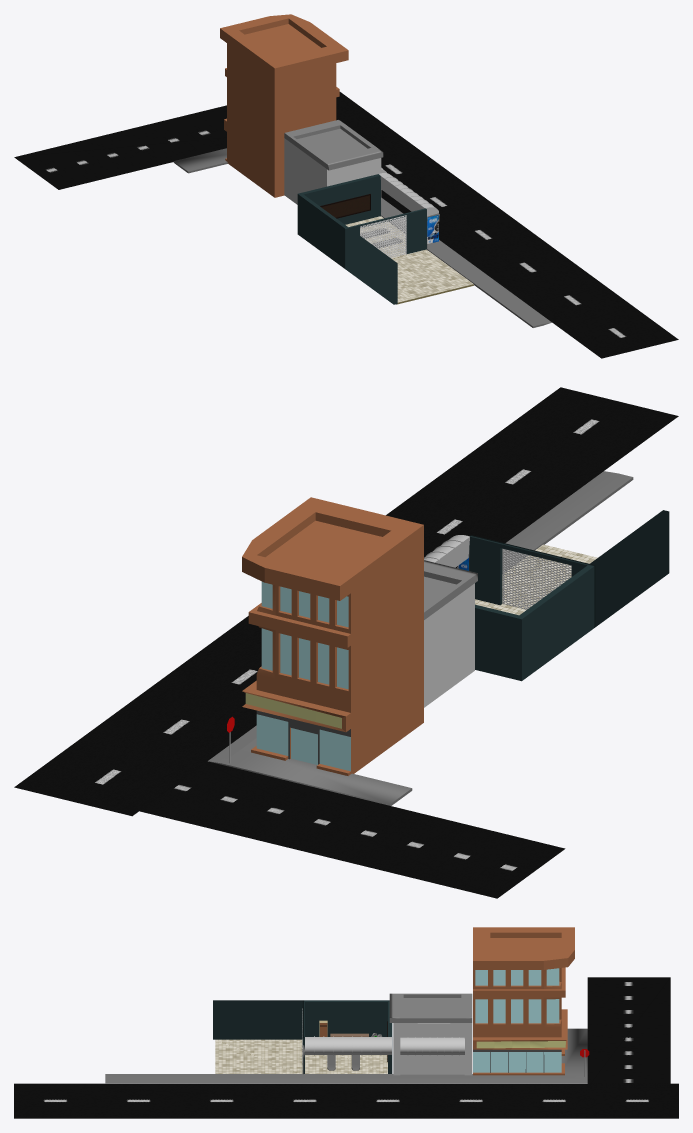
File: mapa.fbx
3 renders of one model, top to bottom at view 1: azimuth 30°, elevation 25°; view 2: azimuth 150°, elevation 25°; view 3: azimuth 270°, elevation 25°, orthographic. The views are drawn at different scales.
Parts seen in each view (by area): view 1: Highway, Building1, Highway1, WallL, Building, pCube4, Floor1, pPlane4, carpa, Board1, Floor; view 2: Highway, Building1, Highway1, WallL, pCube4, Building, pPlane4, Floor1, carpa; view 3: Highway, Building1, Highway1, WallL, pCube4, Building, Floor1, carpa, Floor, Carpa.
Boxes of the visible parts, x1=… form: Highway: x1=336, y1=92, x2=678, y2=358; Building1: x1=220, y1=14, x2=348, y2=197; Highway1: x1=14, y1=105, x2=226, y2=189; WallL: x1=297, y1=174, x2=426, y2=304; Building: x1=284, y1=119, x2=383, y2=211; pCube4: x1=173, y1=148, x2=551, y2=327; Floor1: x1=392, y1=250, x2=473, y2=304; pPlane4: x1=360, y1=215, x2=406, y2=257; carpa: x1=379, y1=173, x2=438, y2=216; Board1: x1=320, y1=194, x2=370, y2=218; Floor: x1=345, y1=216, x2=426, y2=258; Highway: x1=14, y1=387, x2=678, y2=816; Building1: x1=242, y1=497, x2=423, y2=775; Highway1: x1=129, y1=761, x2=565, y2=898; WallL: x1=469, y1=510, x2=669, y2=681; pCube4: x1=208, y1=471, x2=633, y2=805; Building: x1=424, y1=560, x2=477, y2=707; pPlane4: x1=502, y1=549, x2=571, y2=609; Floor1: x1=502, y1=544, x2=597, y2=609; carpa: x1=424, y1=535, x2=469, y2=567; Highway: x1=14, y1=1083, x2=678, y2=1118; Building1: x1=473, y1=927, x2=574, y2=1075; Highway1: x1=587, y1=977, x2=670, y2=1087; WallL: x1=213, y1=1000, x2=392, y2=1073; pCube4: x1=105, y1=1028, x2=587, y2=1083; Building: x1=389, y1=993, x2=472, y2=1075; Floor1: x1=215, y1=1039, x2=301, y2=1073; carpa: x1=305, y1=1036, x2=391, y2=1055; Floor: x1=301, y1=1040, x2=387, y2=1073; Carpa: x1=400, y1=1037, x2=464, y2=1055.
Size of the model in its own units: 40.27 by 16.13 by 80.
